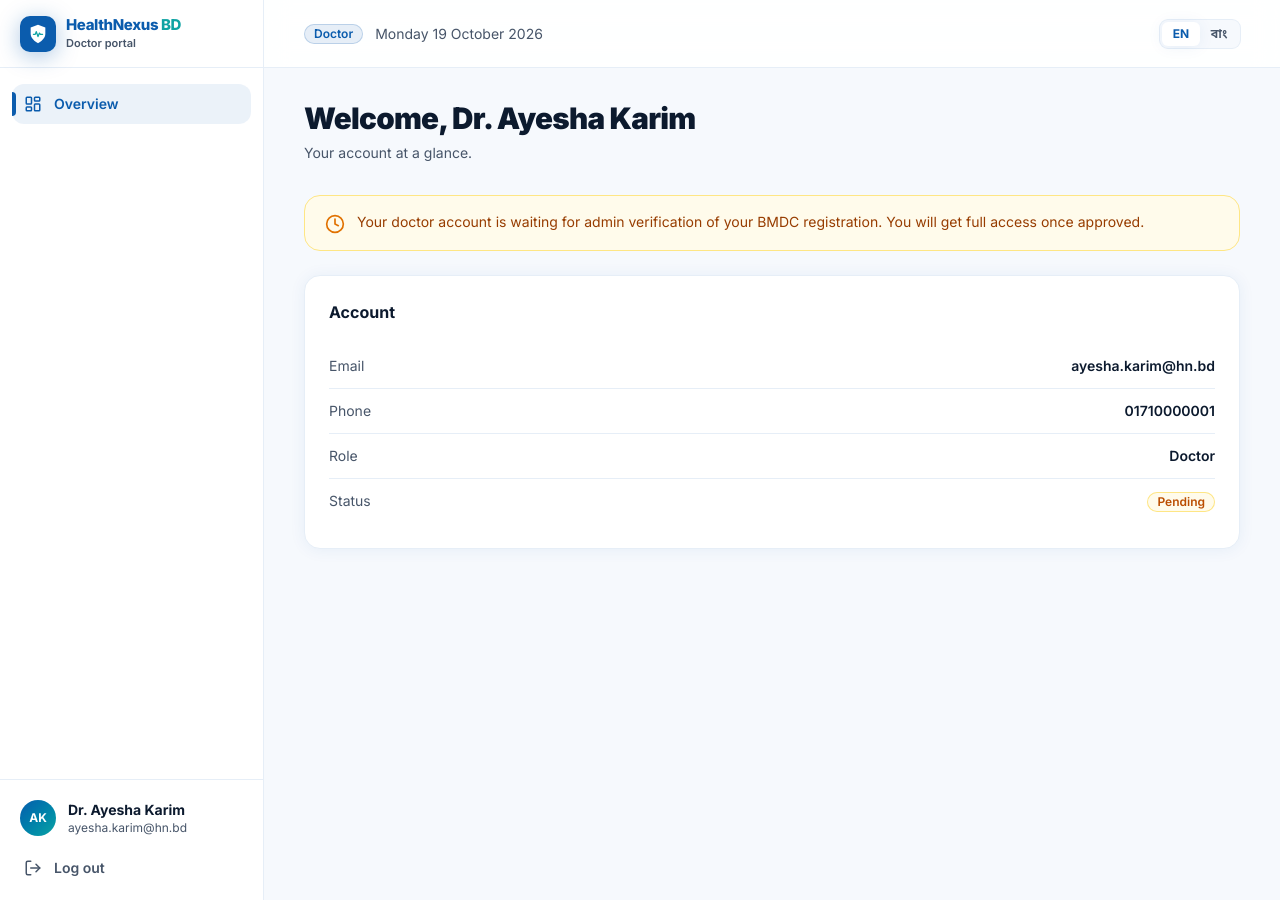
it: DashboardLayout › switches the whole dashboard to Bangla
This screenshot has width=1280, height=900.
Expected: the heading "Welcome, Dr. Ayesha Karim" is shown, x1=304 y1=100 x2=696 y2=137
Step 1. Click the button named "বাংলা" → (1219, 34), box x1=1200 y1=22 x2=1238 y2=46
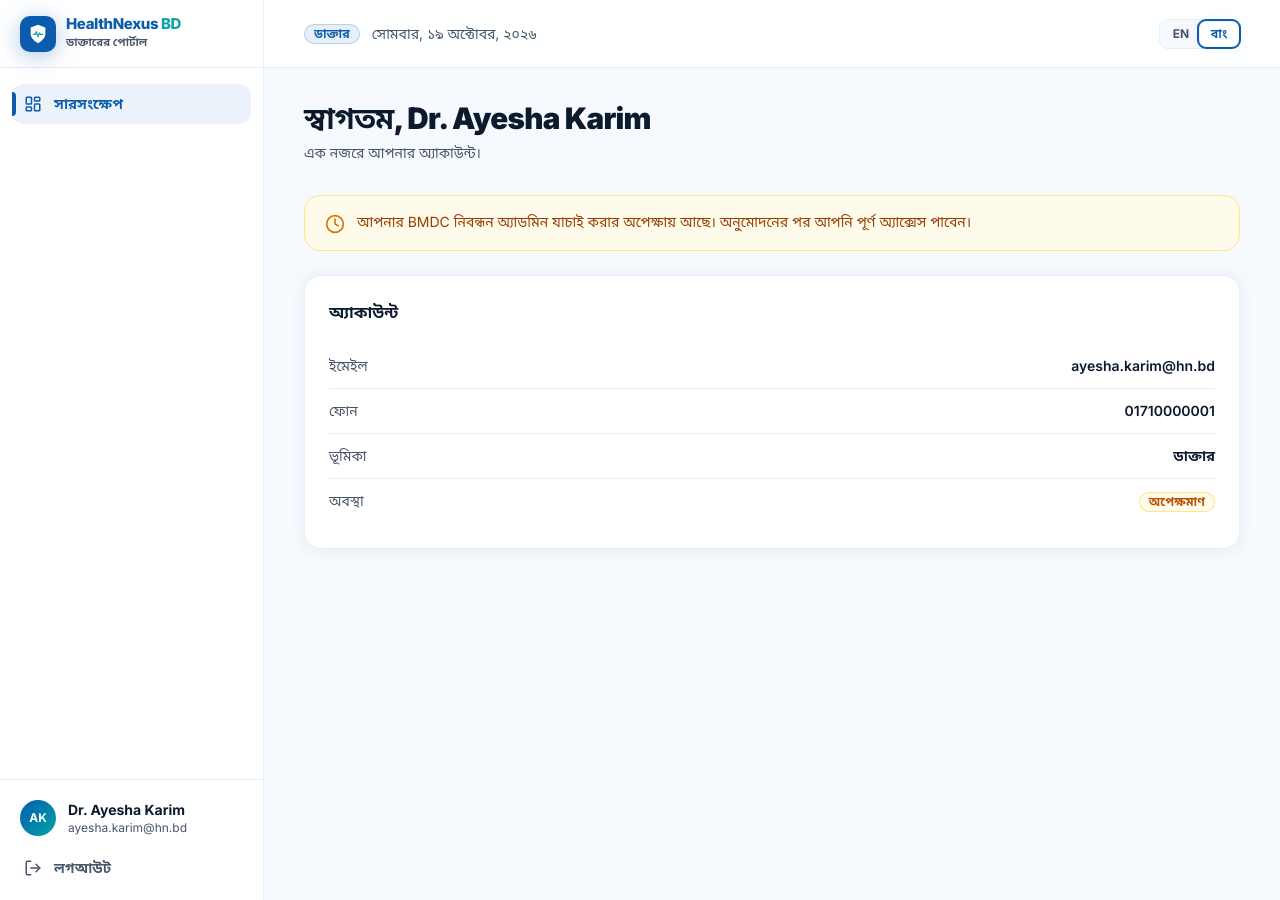
Expected: the heading "স্বাগতম, Dr. Ayesha Karim" is shown, x1=304 y1=100 x2=651 y2=137
Expected: the text "ডাক্তারের পোর্টাল" is shown, x1=66 y1=35 x2=147 y2=49
Expected: the link "সারসংক্ষেপ" is shown, x1=12 y1=84 x2=251 y2=124
